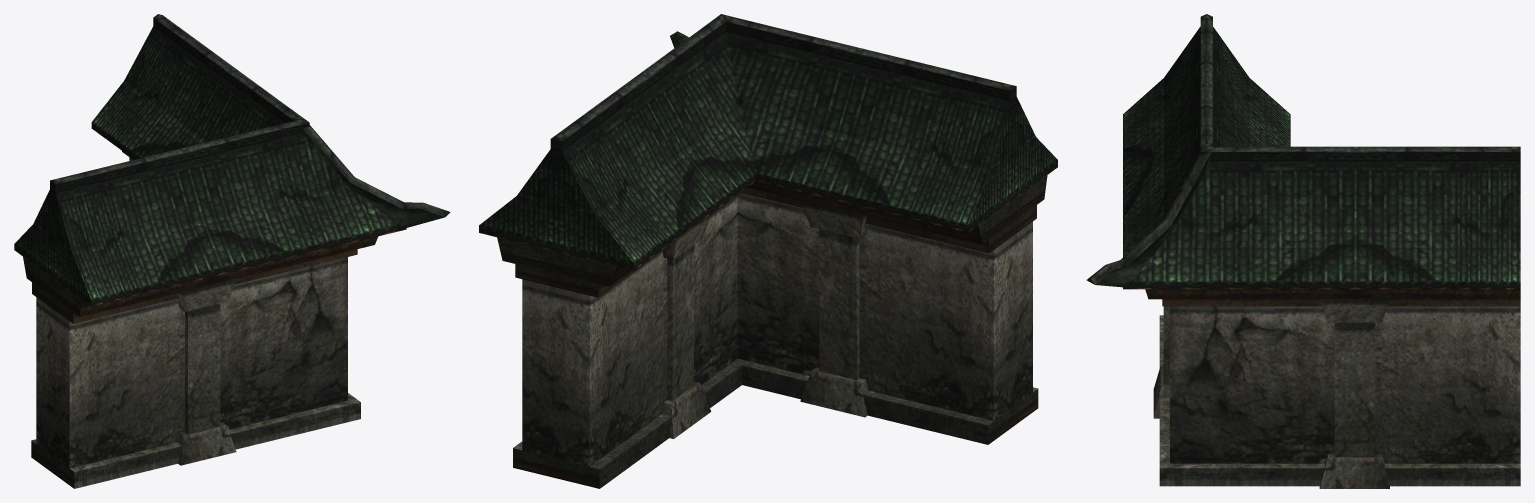
The model's file is c1-038-wall_01.fbx.
3 views of the same model, side by side, from view 1: azimuth 30°, elevation 25°; view 2: azimuth 150°, elevation 25°; view 3: azimuth 270°, elevation 25° (orthographic). The views are drawn at different scales.
Parts seen in each view (by area): view 1: c1-038-wall; view 2: c1-038-wall; view 3: c1-038-wall.
Boxes of the visible parts, bbox=[...] form: c1-038-wall: bbox=[14, 14, 450, 488]; c1-038-wall: bbox=[479, 14, 1057, 488]; c1-038-wall: bbox=[1086, 14, 1520, 488].
Size of the model in its own units: 5.56 by 4.5 by 5.54.
